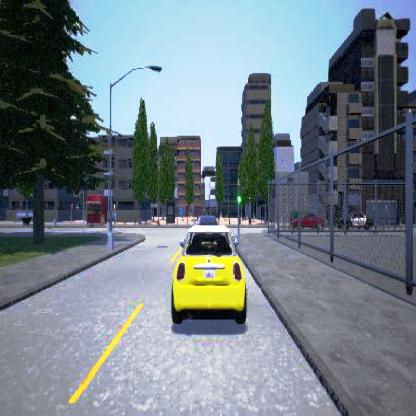vehicle: (171, 215, 246, 323), (335, 210, 372, 229), (288, 213, 324, 228)
